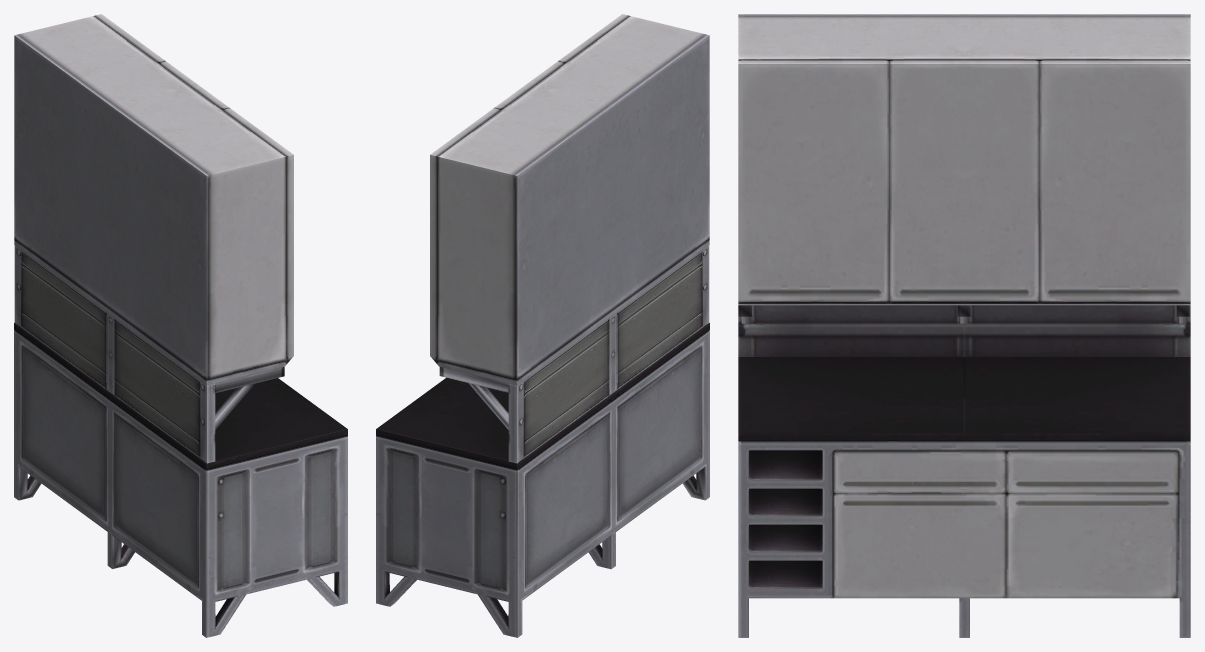
The model's file is TableLab03.FBX.
3 views of the same model, side by side, from view 1: azimuth 30°, elevation 25°; view 2: azimuth 150°, elevation 25°; view 3: azimuth 270°, elevation 25° (orthographic). The views are drawn at different scales.
Parts seen in each view (by area): view 1: TableLab03; view 2: TableLab03; view 3: TableLab03.
Part boxes in pixels (x1,y1,x2,y2): TableLab03: (14,14,347,637); TableLab03: (376,14,709,637); TableLab03: (738,14,1190,637).
Bounding box in the file's own units: 0.85 × 2.65 × 2.
